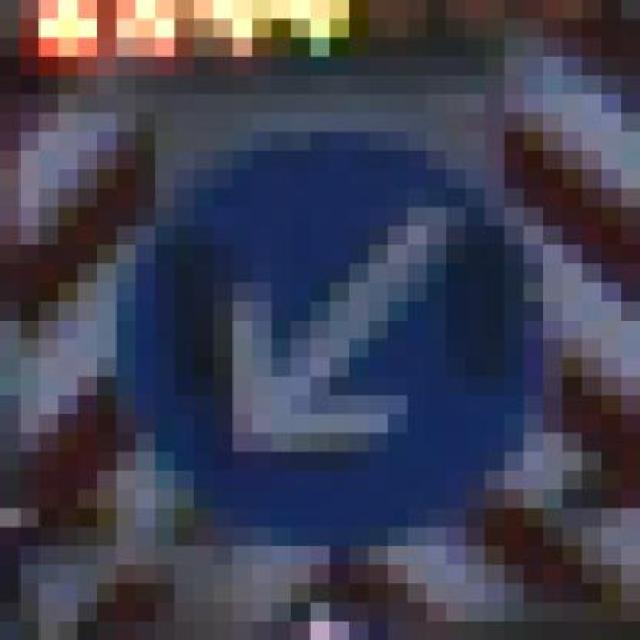Keep-Left: (78, 112, 562, 565)
